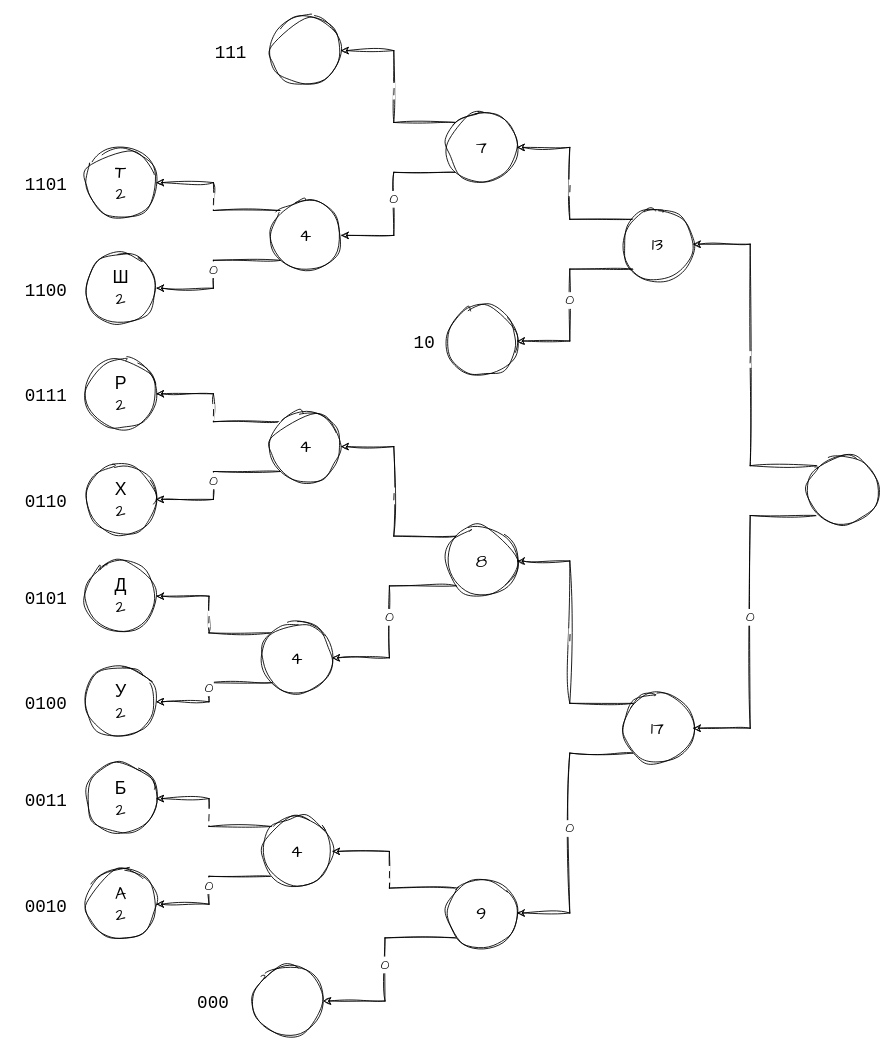
Some shapes in this 893 by 1052 pixel diagram are drawn without their labels. Each missing label, with the box of its shape:
space 5: (252, 965, 323, 1036)
К 3: (270, 15, 341, 86)
О 6: (446, 305, 517, 376)
